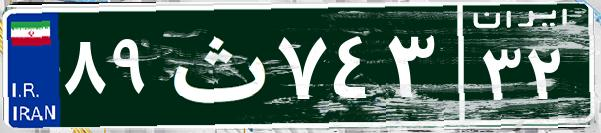2: (525, 38, 570, 115)
3: (385, 28, 445, 110), (475, 38, 525, 113)
4: (330, 28, 385, 110)
7: (273, 28, 330, 110)
8: (57, 26, 110, 107)
9: (110, 28, 158, 105)
ث: (158, 15, 273, 115)
